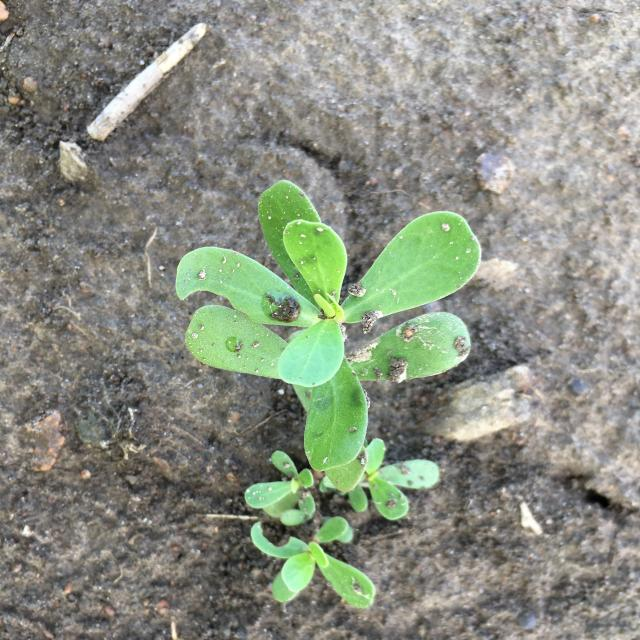Purslane: (176, 180, 481, 609)
